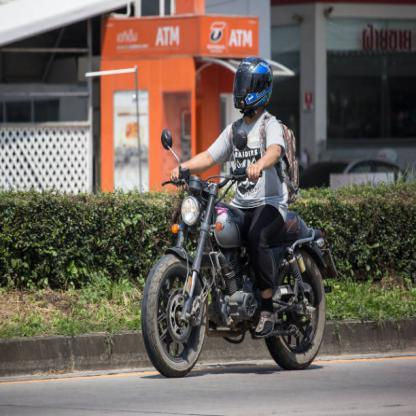Motorcycle: (142, 166, 338, 379)
